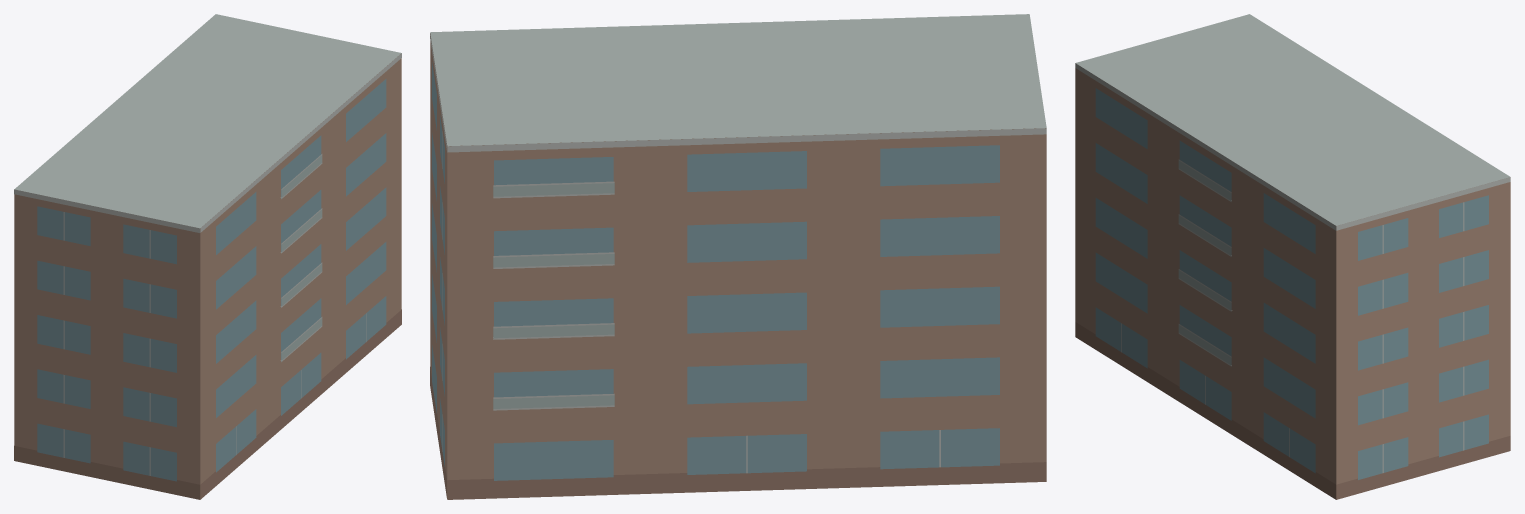
Rendered from survey-upis-33022881.glb.
3 renders of one model, left to right at view 1: azimuth 30°, elevation 25°; view 2: azimuth 150°, elevation 25°; view 3: azimuth 270°, elevation 25°, orthographic. The views are drawn at different scales.
Parts seen in each view (by area): view 1: survey-upis-33022881.tmp; view 2: survey-upis-33022881.tmp; view 3: survey-upis-33022881.tmp.
Part boxes in pixels (x1,y1,x2,y2): survey-upis-33022881.tmp: (14,14,401,499); survey-upis-33022881.tmp: (430,14,1046,499); survey-upis-33022881.tmp: (1075,14,1510,499).
Size of the model in its own units: 22.65 by 13.65 by 19.67.
